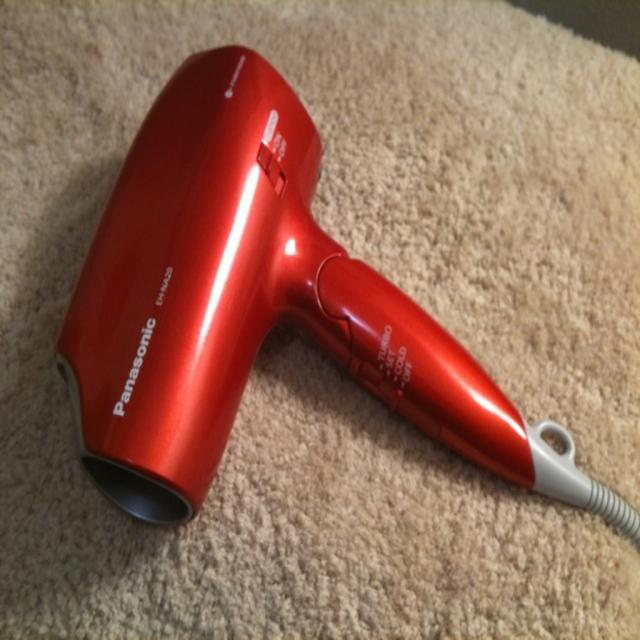dryer: (41, 25, 631, 569)
